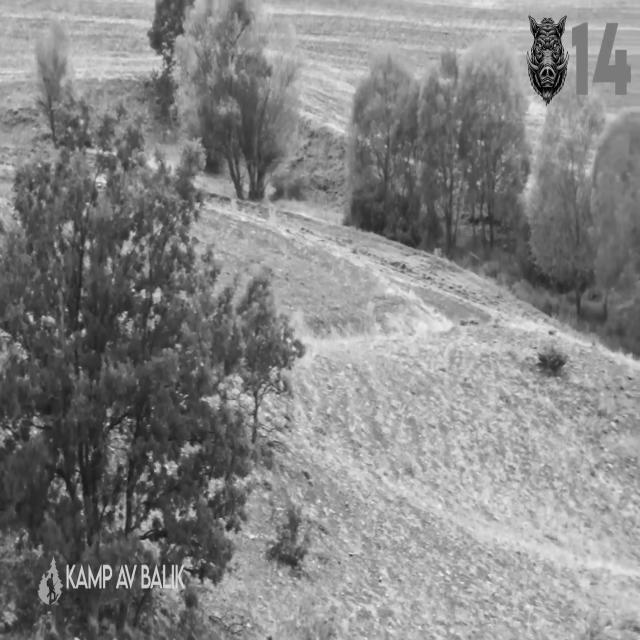boar: (526, 15, 568, 104)
